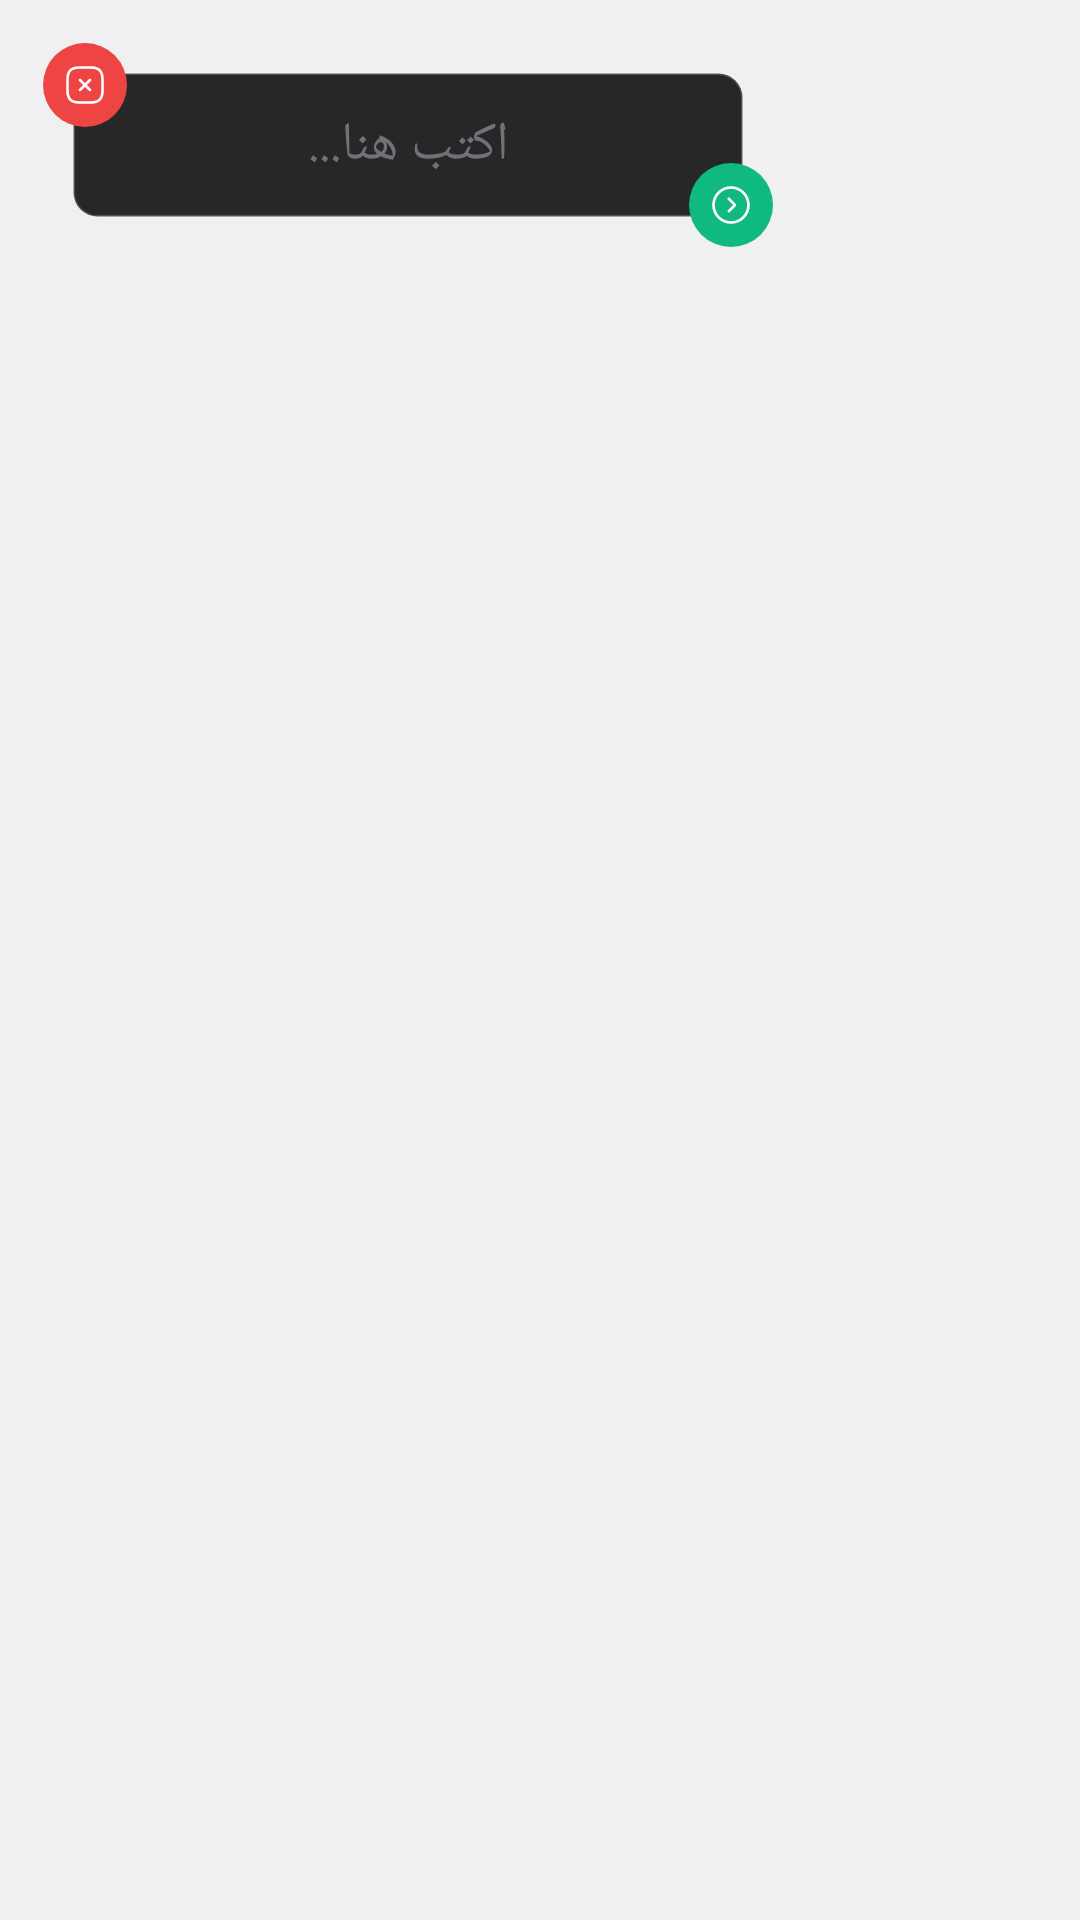

Icons on this 1080px×1920px Android screen, each with the point to tap as point (x, y):
arrow: point (731, 205)
close square: point (85, 85)
